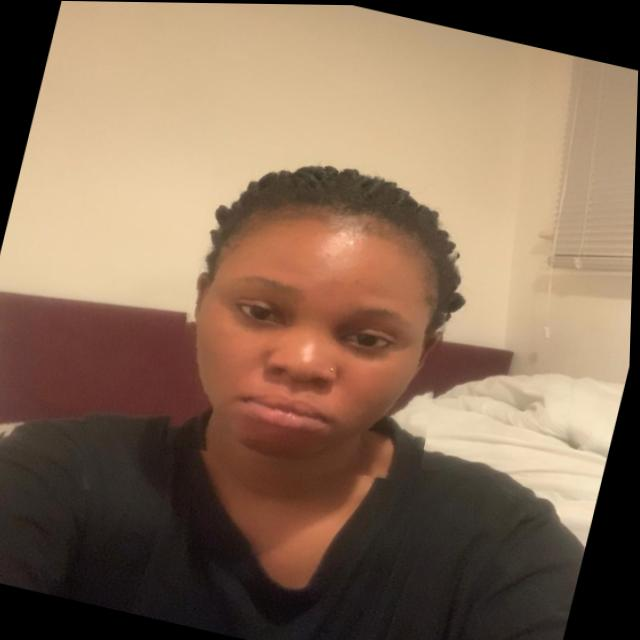sad: (151, 127, 486, 495)
